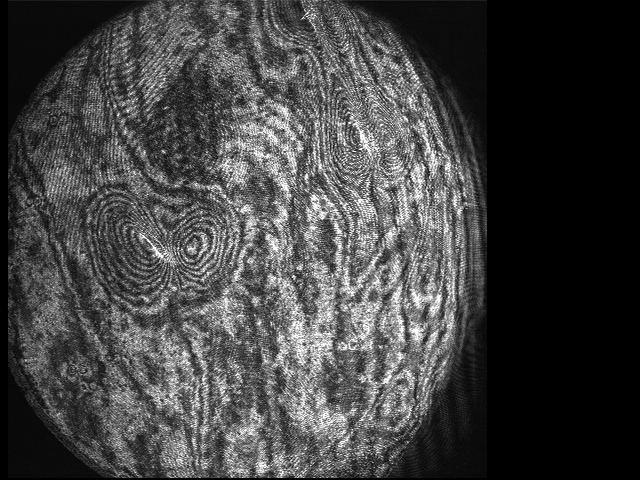plume: (84, 195, 239, 303)
